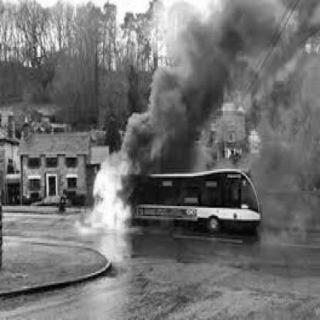Fire: (81, 151, 142, 231)
Smoke: (110, 2, 269, 165)
